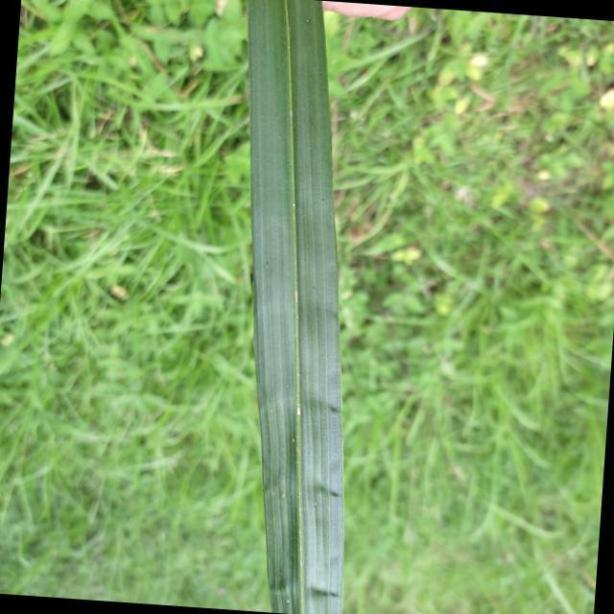Boron: (245, 0, 350, 614)
